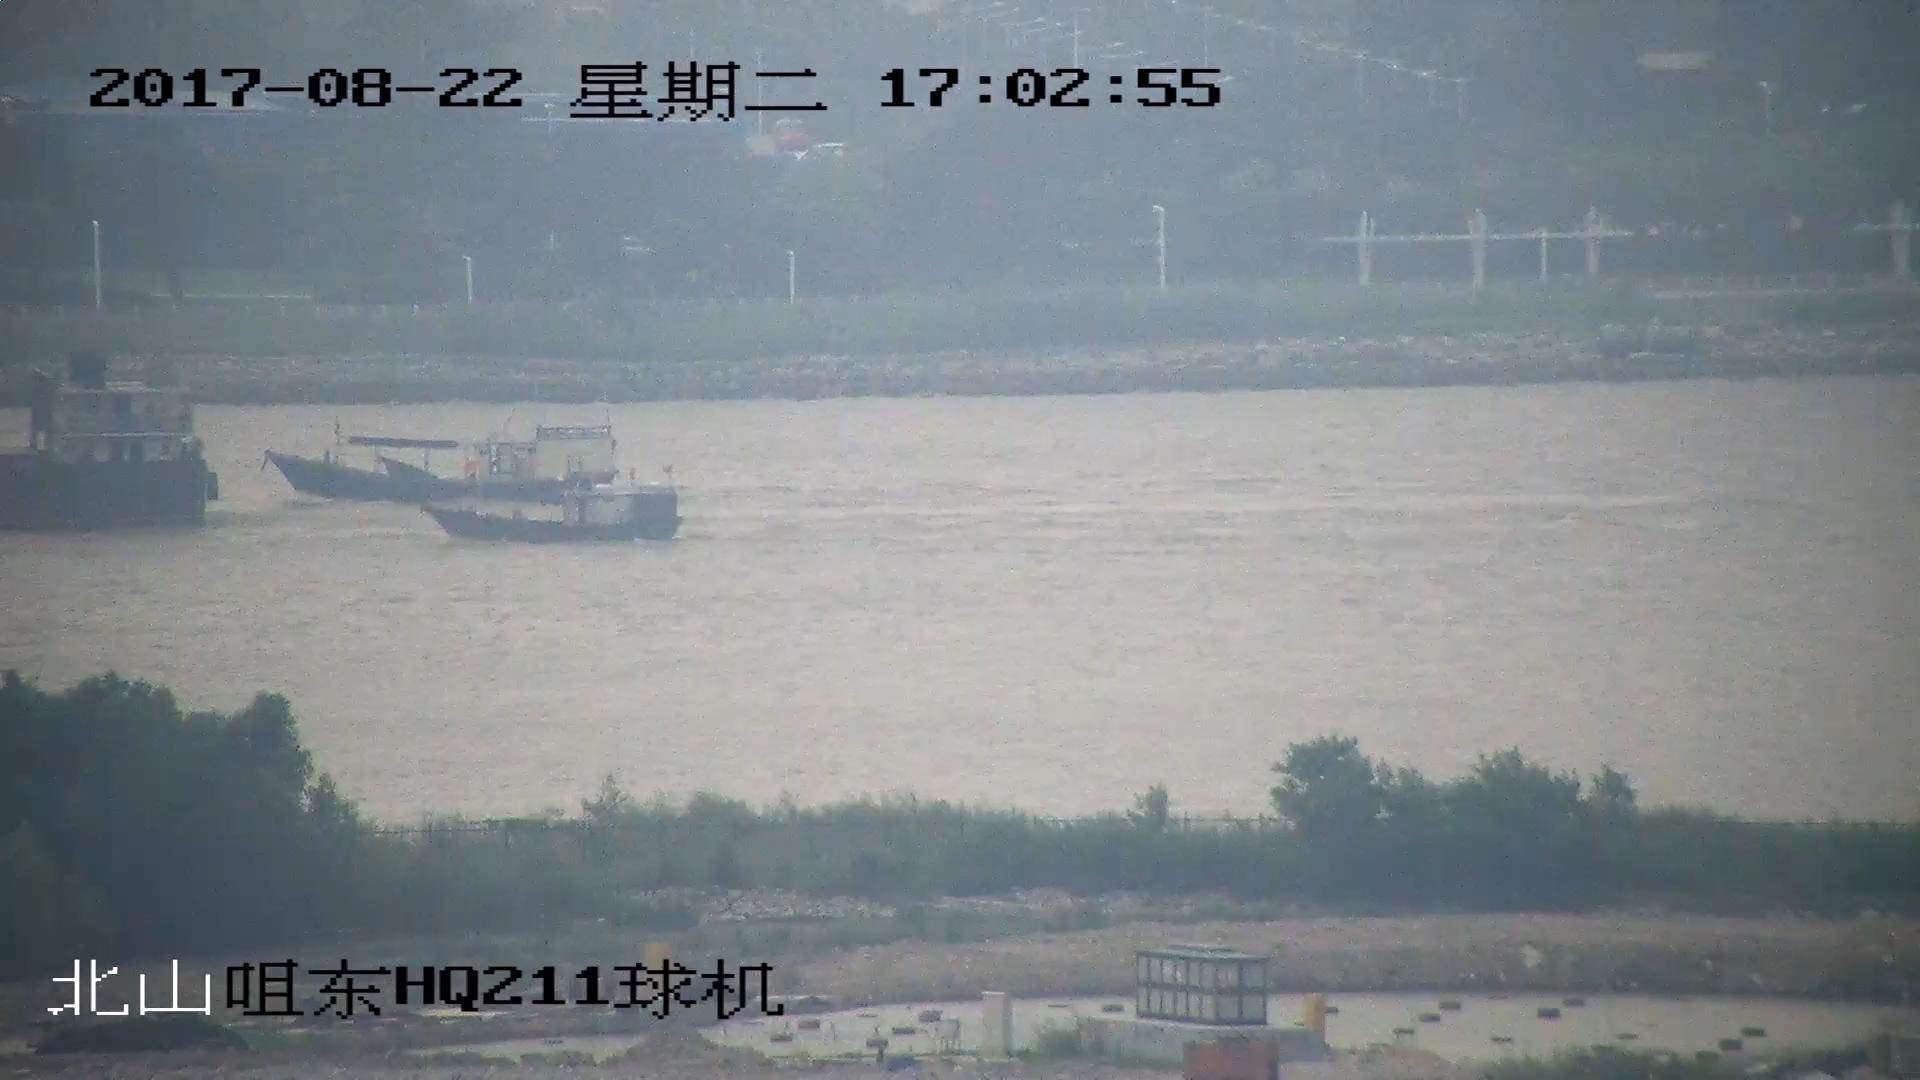fishing boat: (265, 424, 621, 507), (431, 467, 674, 542)
general cargo ship: (1, 373, 216, 524)
